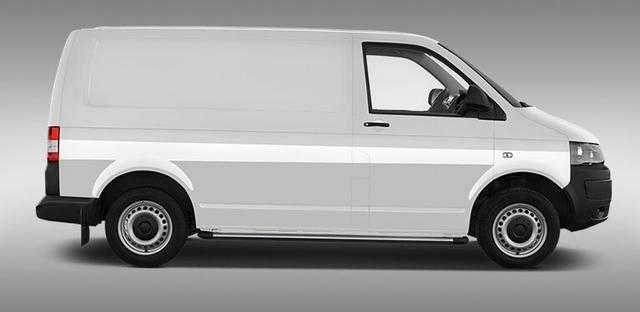van: (35, 25, 612, 270)
